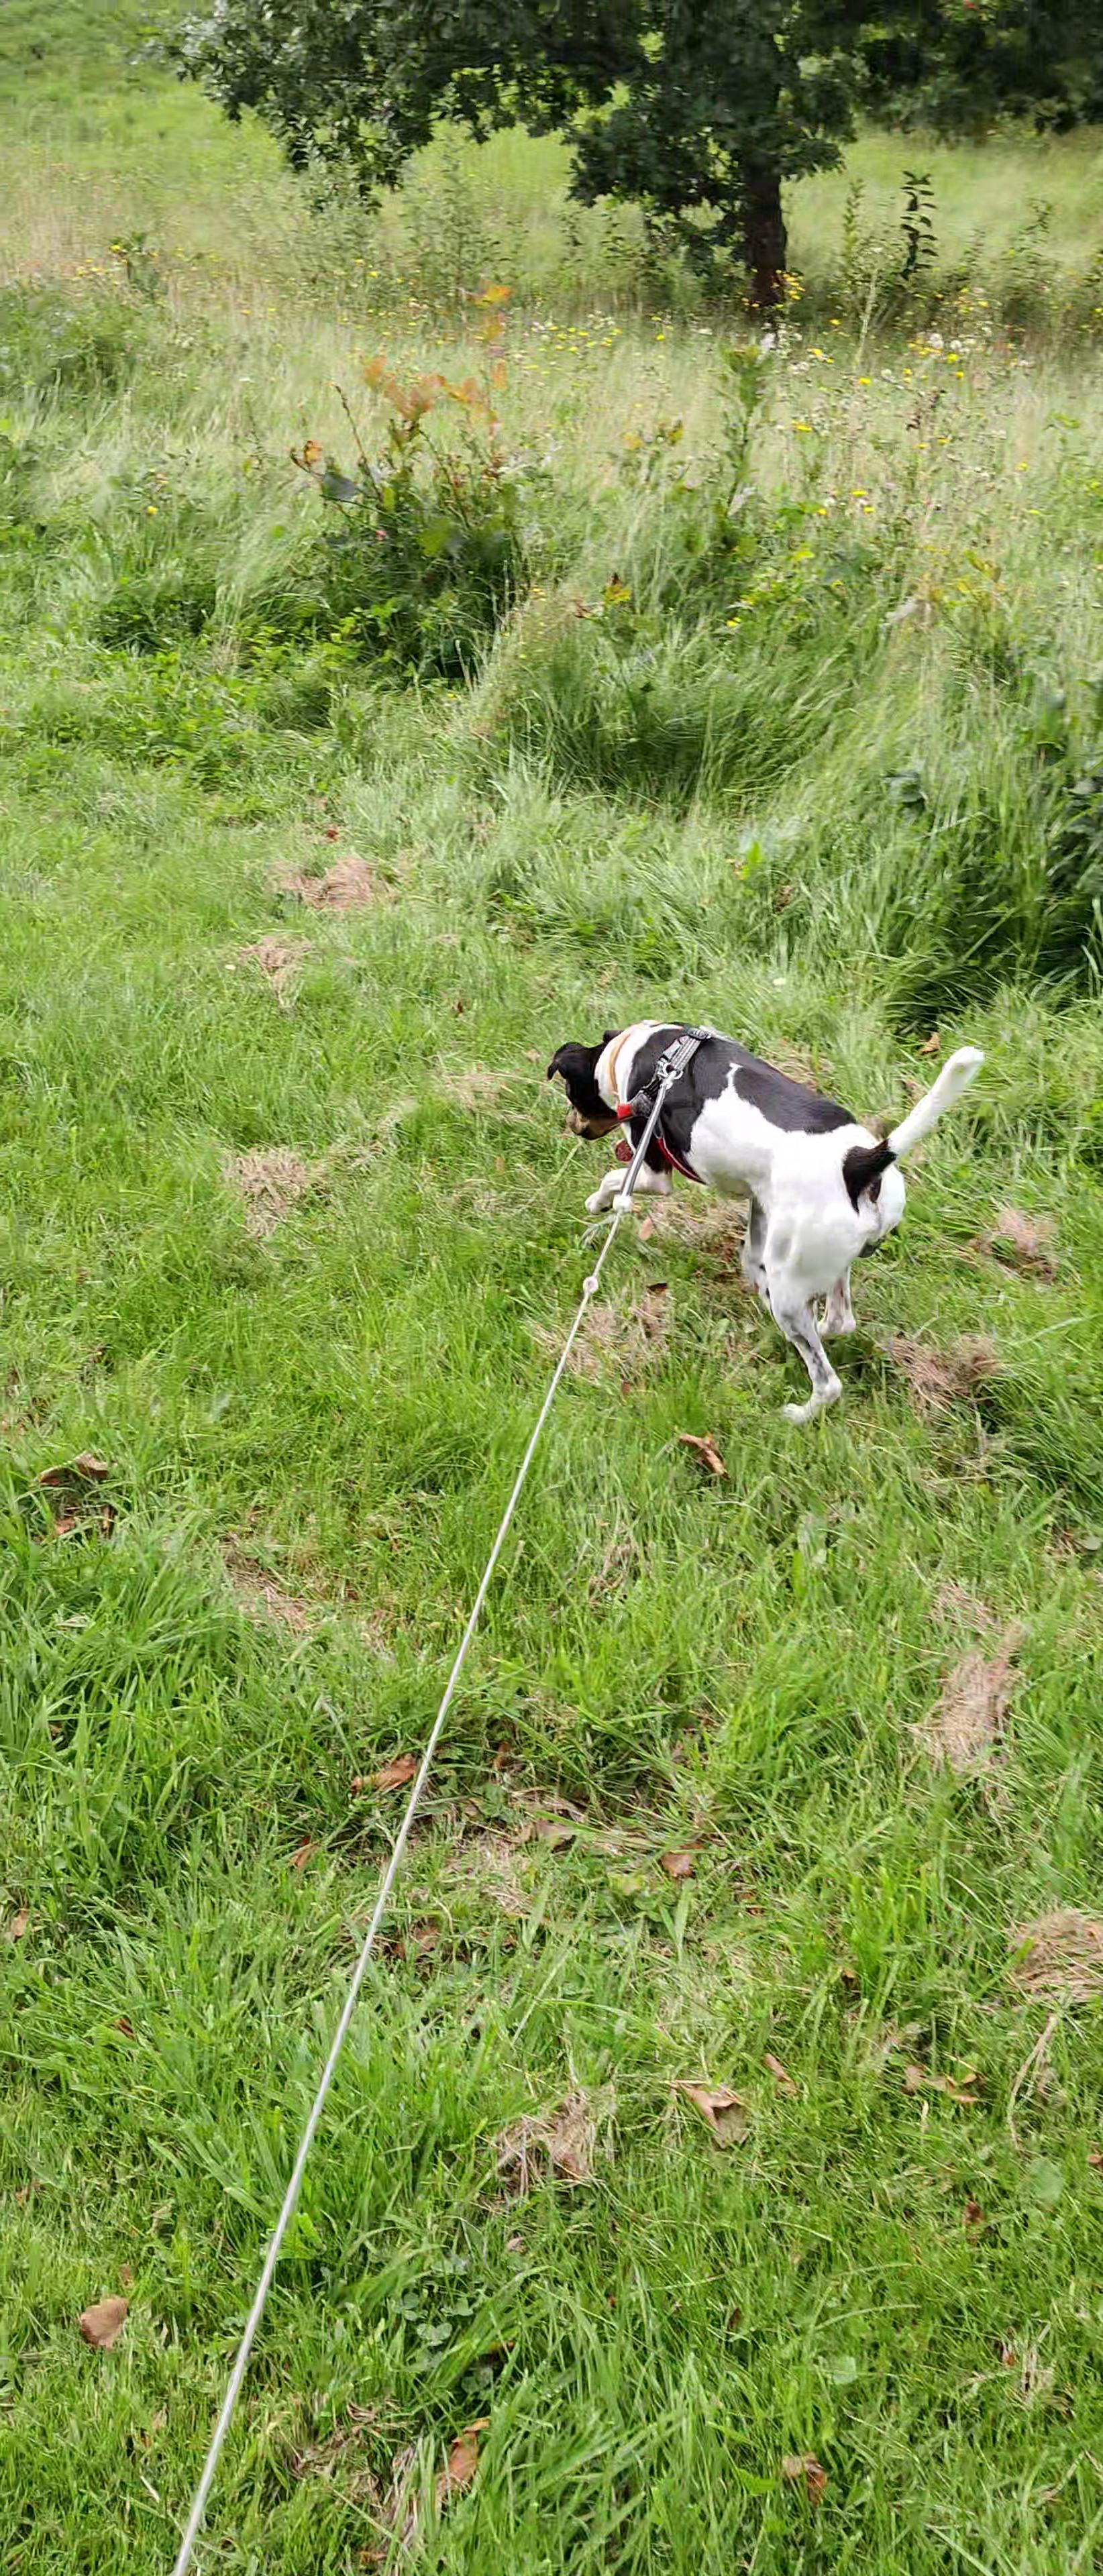Dog: (534, 1010, 988, 1434)
